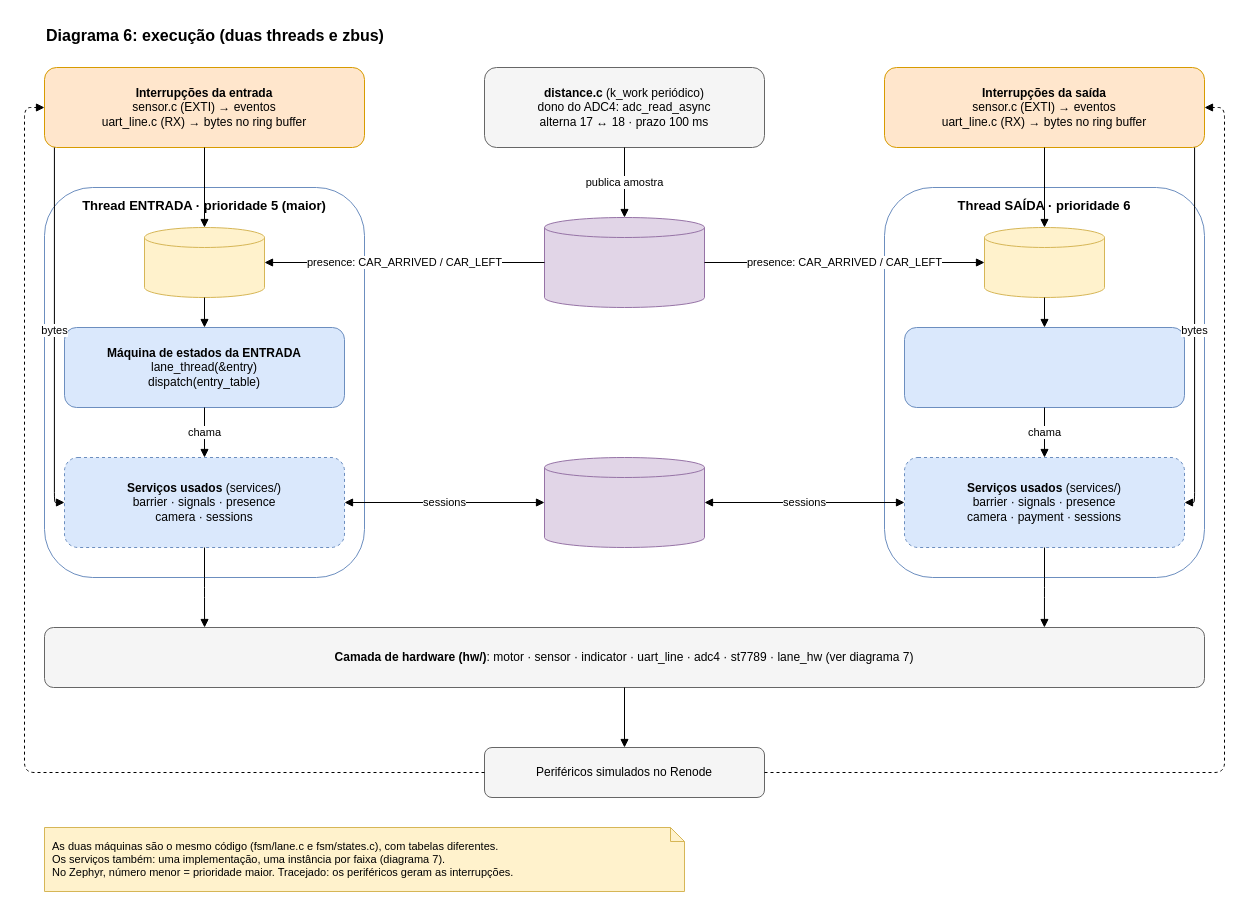
Image size: 1250x909. Some labels were removed from this diagram. Here are the shapes that lost their labels. From the top down, the box of each, then its label:
(144, 226, 264, 298): fila da entrada {evento}
(544, 216, 704, 308): chan_distance {canal, código} publicar e assinar
(984, 226, 1104, 298): fila da saída {evento}
(904, 326, 1184, 408): Máquina de estados da SAÍDA lane_thread(&exit) dispatch(exit_table)
(544, 456, 704, 548): chan_sessions tabela de sessões claim / finish
